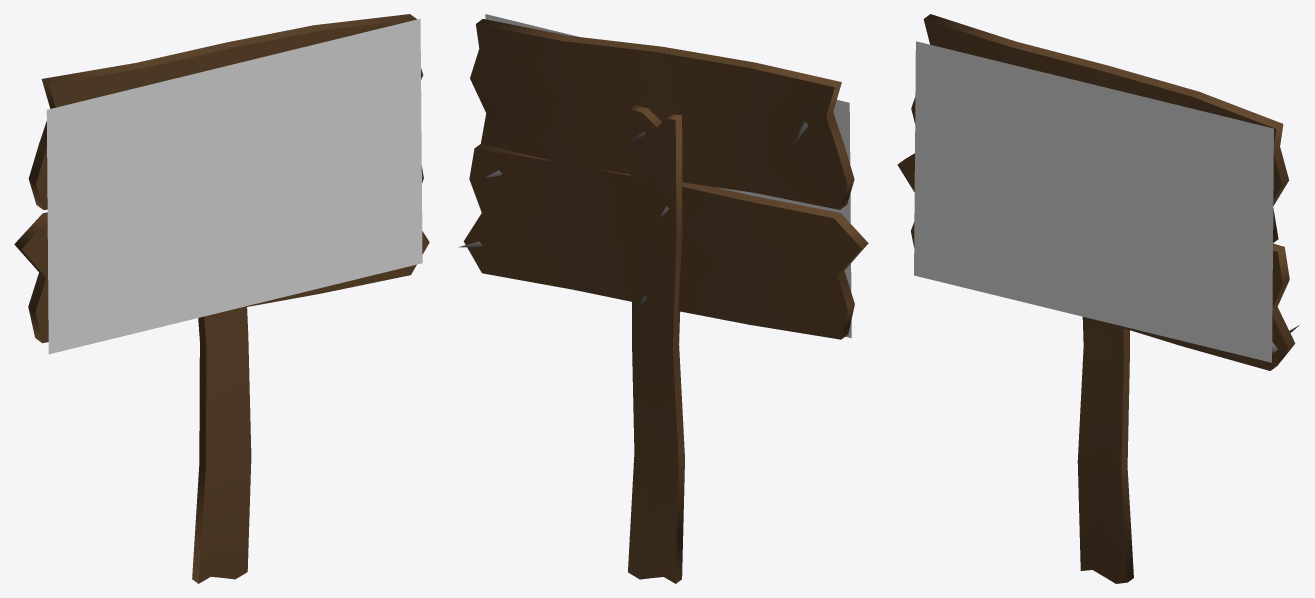
File: wooden_sign.fbx
3 renders of one model, left to right at view 1: azimuth 30°, elevation 25°; view 2: azimuth 150°, elevation 25°; view 3: azimuth 330°, elevation 25°, orthographic. The views are drawn at different scales.
Visible parts, largest first — view 1: Message, Cube; view 2: Cube, Message; view 3: Message, Cube.
Boxes of the visible parts, x1,y1,x2,y2 form: Message: (46, 18, 422, 354); Cube: (14, 14, 429, 583); Cube: (458, 19, 868, 583); Message: (485, 14, 851, 338); Message: (914, 41, 1273, 362); Cube: (897, 14, 1299, 583).
Size of the model in its own units: 201 by 258 by 25.99.
